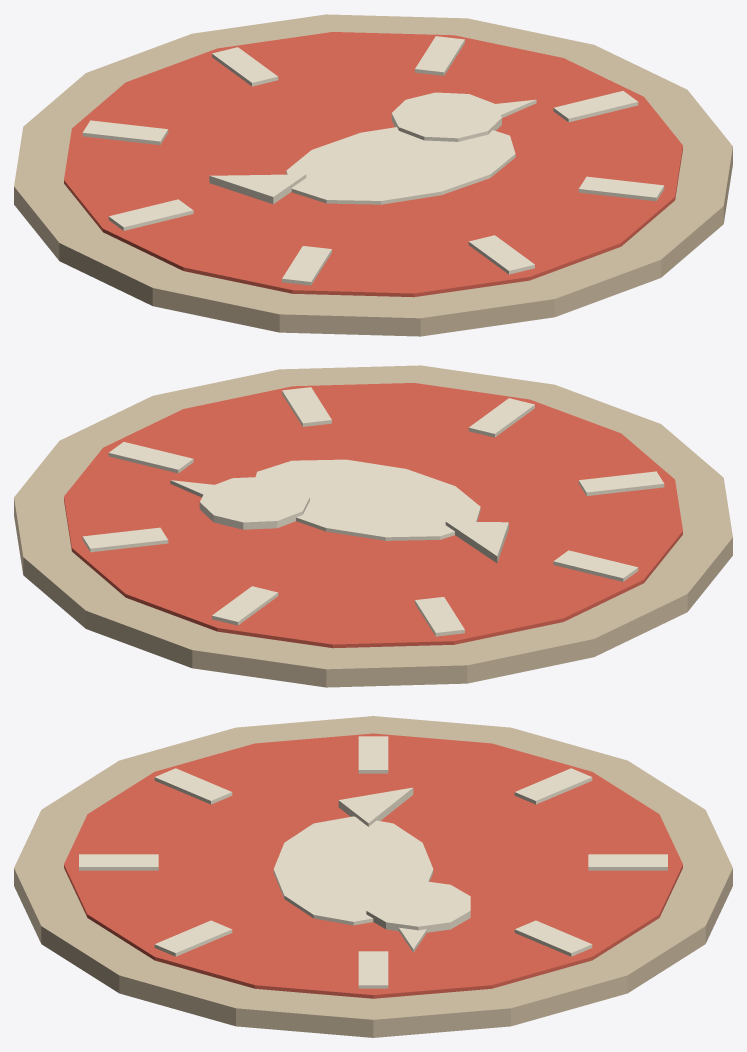
The model's file is shooting_spot.glb.
3 renders of one model, top to bottom at view 1: azimuth 30°, elevation 25°; view 2: azimuth 150°, elevation 25°; view 3: azimuth 270°, elevation 25°, orthographic.
Visible parts, largest first — view 1: shooting_spot; view 2: shooting_spot; view 3: shooting_spot.
Boxes of the visible parts, <box> form: shooting_spot: <box>14,14,732,336</box>; shooting_spot: <box>14,365,732,687</box>; shooting_spot: <box>14,716,732,1037</box>.
Bounding box in the file's own units: 0.72 × 0.032 × 0.72.
